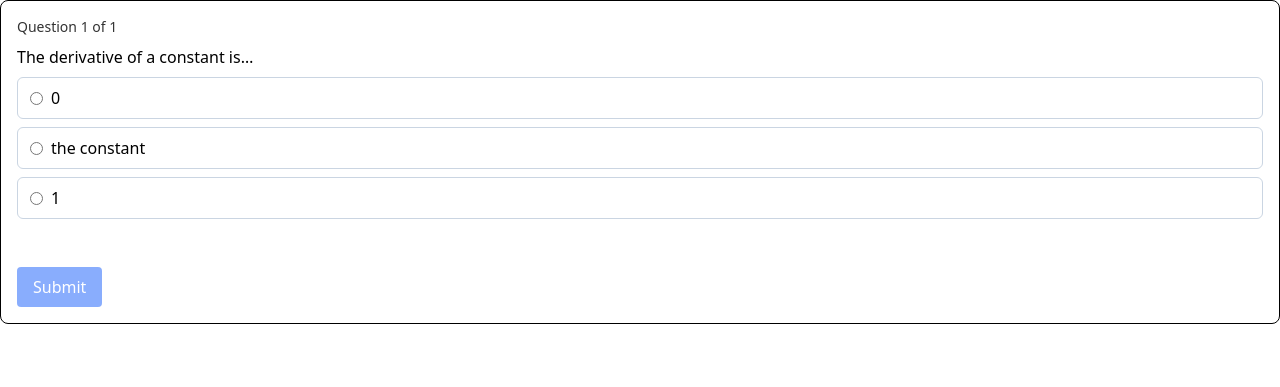
it: attempt recording (FR-QUIZ-003, §5.5, NFR-REL-001) › surfaces recordAttempt failures via console.error and an inline notice
Click the radio button labelled "0".
click(36, 98)  # box [30, 92, 43, 104]
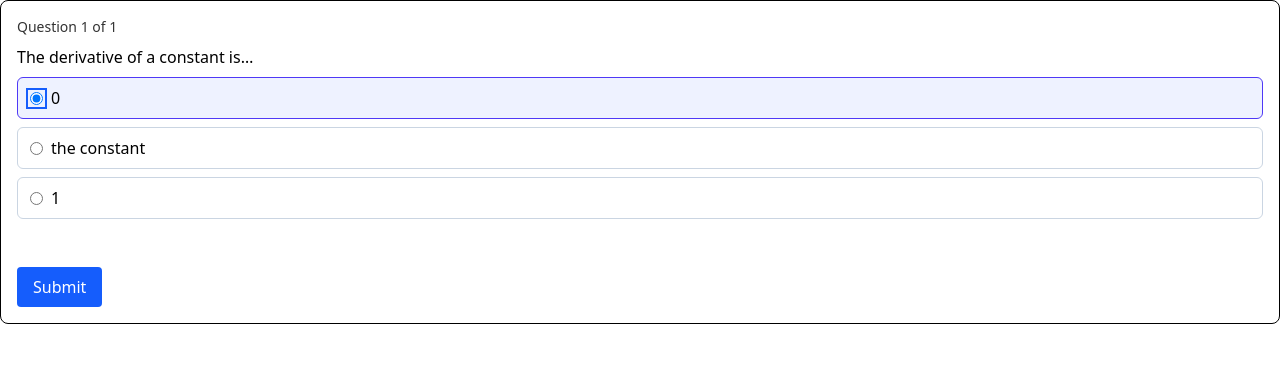
Click the button "Submit".
click(60, 287)  # box [17, 267, 102, 307]
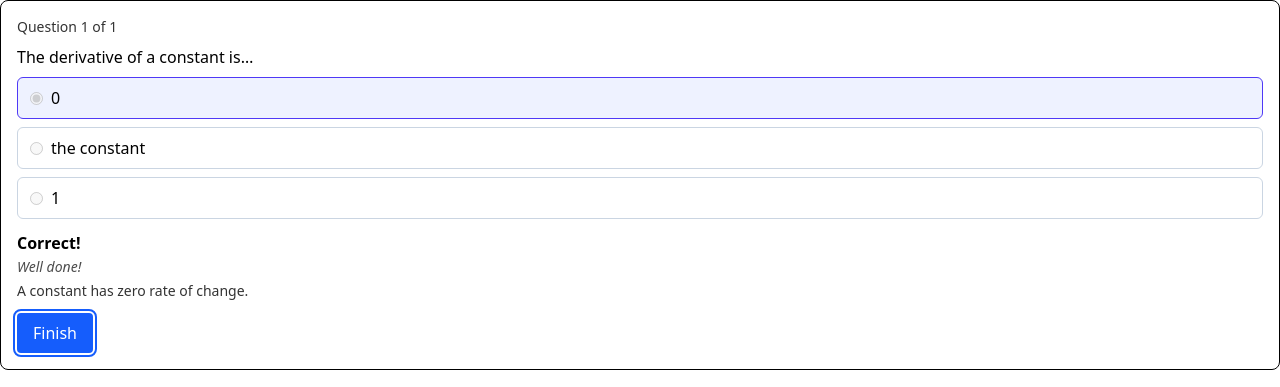
Click the button "Finish".
click(55, 333)  # box [17, 313, 93, 353]
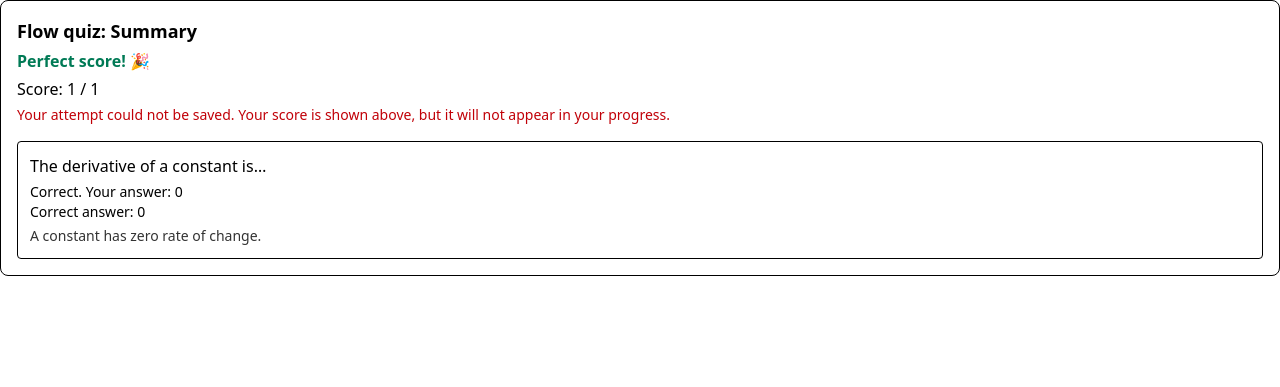
Expected: the message shows "could not be saved", [17, 105, 670, 124]
Expected: the text "Score: 1 / 1" is shown, [17, 78, 100, 100]
